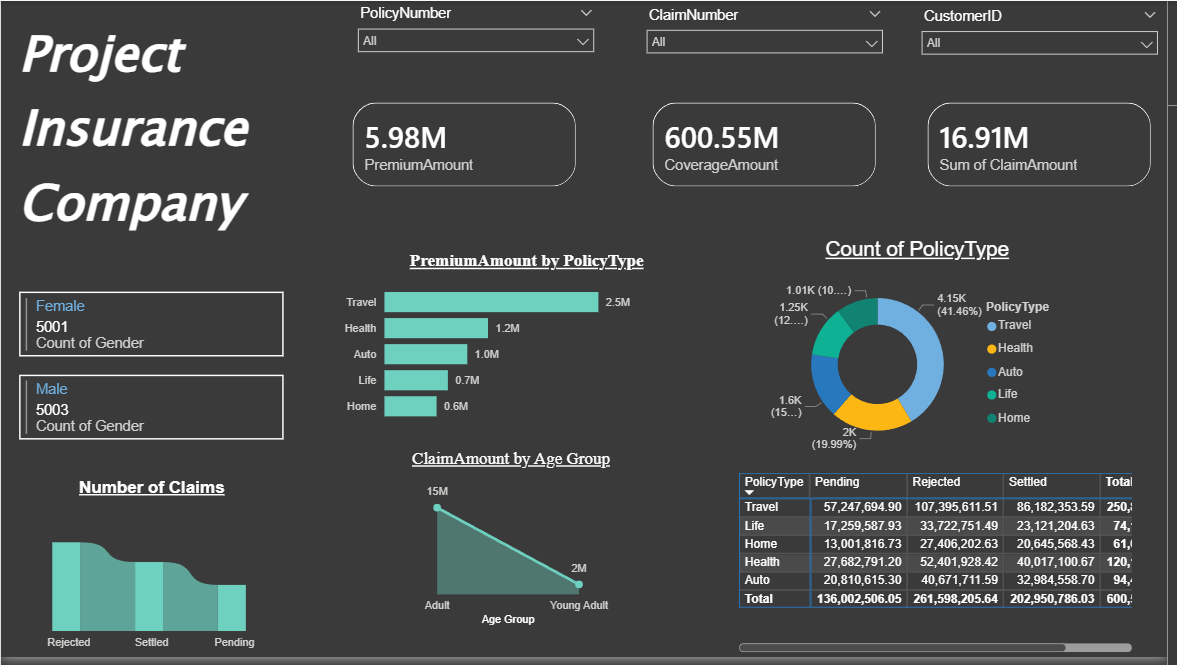

The page's visual inventory and layout, read from the dashboard file:
{"tool":"powerbi","page":{"name":"Page 1","canvas":[1280,720],"ordinal":0},"visuals":[{"type":"slicer","fields":{"Values":["InsuranceData.PolicyNumber"]},"box":[381.5,0,279.9,124.9],"z":0},{"type":"textbox","box":[15.1,13.7,300.5,289.5],"z":1000},{"type":"slicer","fields":{"Values":["InsuranceData.ClaimNumber"]},"box":[698.5,1.4,279.9,124.9],"z":2000},{"type":"slicer","fields":{"Values":["InsuranceData.CustomerID"]},"box":[1000.3,2.7,279.9,124.9],"z":3000},{"type":"cardVisual","fields":{"Data":["Sum(InsuranceData.PremiumAmount)"]},"box":[369.1,94.7,279.9,126.2],"z":4000},{"type":"cardVisual","fields":{"Data":["Sum(InsuranceData.CoverageAmount)"]},"box":[698.5,94.7,279.9,126.2],"z":5000},{"type":"cardVisual","fields":{"Data":["Sum(InsuranceData.ClaimAmount)"]},"box":[1000.3,94.7,279.9,126.2],"z":6000},{"type":"multiRowCard","fields":{"Values":["InsuranceData.Gender","CountNonNull(InsuranceData.Gender)"]},"box":[15.1,314.2,300.5,199],"z":7000},{"type":"ribbonChart","title":"Number of Claims","fields":{"Y":["CountNonNull(InsuranceData.ClaimStatus)"],"Category":["InsuranceData.ClaimStatus"]},"box":[15,523,301,197],"z":8000},{"type":"barChart","title":"PremiumAmount by PolicyType","fields":{"Category":["InsuranceData.PolicyType"],"Y":["Sum(InsuranceData.PremiumAmount)"]},"box":[369.1,274.4,415.8,199],"z":9000},{"type":"lineChart","title":"ClaimAmount by Age Group","fields":{"Category":["InsuranceData.Age Group"],"Y":["Sum(InsuranceData.ClaimAmount)"]},"box":[411.7,491.3,296.4,199],"z":10000},{"type":"donutChart","title":"Count of PolicyType","fields":{"Category":["InsuranceData.PolicyType"],"Y":["CountNonNull(InsuranceData.PolicyType)"]},"box":[838.4,259.3,334.8,253.9],"z":11000},{"type":"pivotTable","fields":{"Rows":["InsuranceData.PolicyType"],"Columns":["InsuranceData.ClaimStatus"],"Values":["Sum(InsuranceData.CoverageAmount)"]},"box":[805,513.8,441.2,206.2],"z":12000}]}

Visuals, with their boxes in screenshot pixels (x1, y1, x2, y2), scaled from the page's 1280x720 canvas onto the 1177x665 screenshot:
slicer - InsuranceData.PolicyNumber: <bbox>351, 0, 608, 115</bbox>
textbox: <bbox>14, 13, 290, 280</bbox>
slicer - InsuranceData.ClaimNumber: <bbox>642, 1, 900, 117</bbox>
slicer - InsuranceData.CustomerID: <bbox>920, 2, 1176, 118</bbox>
cardVisual - Sum(InsuranceData.PremiumAmount): <bbox>339, 87, 597, 204</bbox>
cardVisual - Sum(InsuranceData.CoverageAmount): <bbox>642, 87, 900, 204</bbox>
cardVisual - Sum(InsuranceData.ClaimAmount): <bbox>920, 87, 1176, 204</bbox>
multiRowCard - InsuranceData.Gender x CountNonNull(InsuranceData.Gender): <bbox>14, 290, 290, 474</bbox>
"Number of Claims" ribbonChart: <bbox>14, 483, 291, 664</bbox>
"PremiumAmount by PolicyType" barChart: <bbox>339, 253, 722, 437</bbox>
"ClaimAmount by Age Group" lineChart: <bbox>379, 454, 651, 638</bbox>
"Count of PolicyType" donutChart: <bbox>771, 239, 1079, 474</bbox>
pivotTable - InsuranceData.PolicyType x InsuranceData.ClaimStatus: <bbox>740, 475, 1146, 664</bbox>
